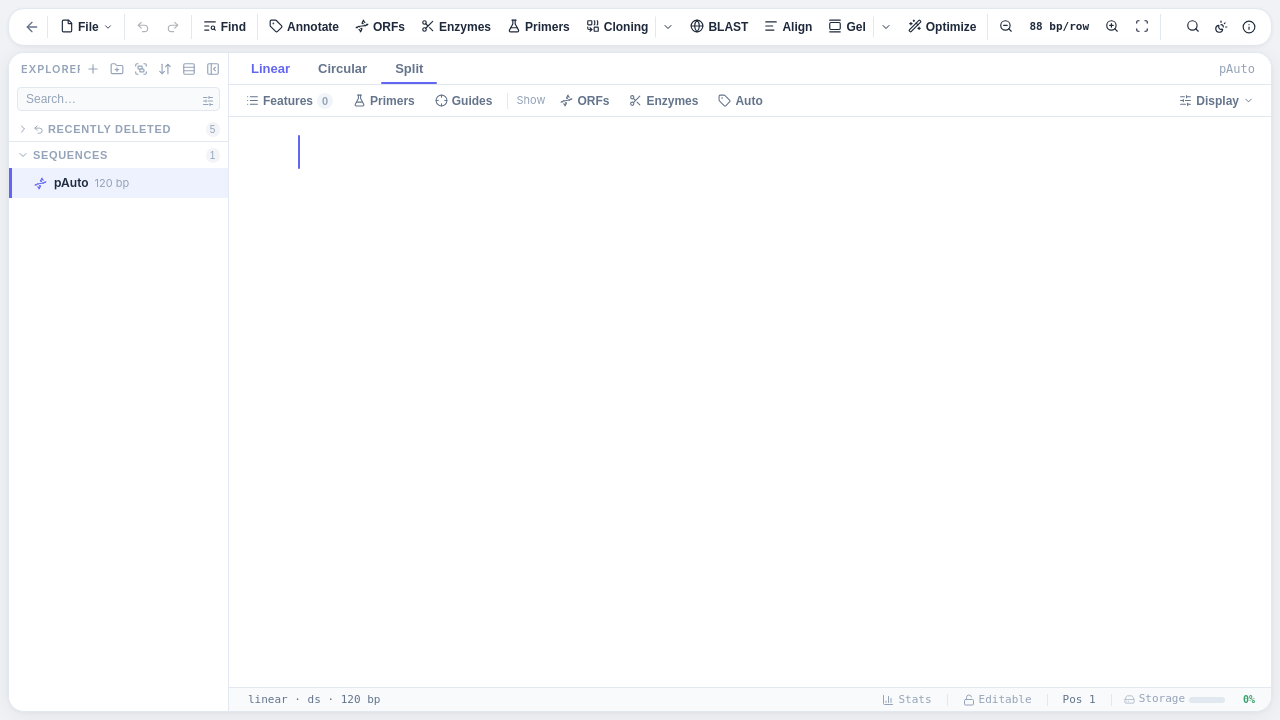
auto-annotation in the panel bar › offers the picked subset once something is picked
What coordinates should you click on to do the following:
click the button "Auto"
I would click on:
 (741, 100)
Its box is top-left (709, 90), bottom-right (772, 112).
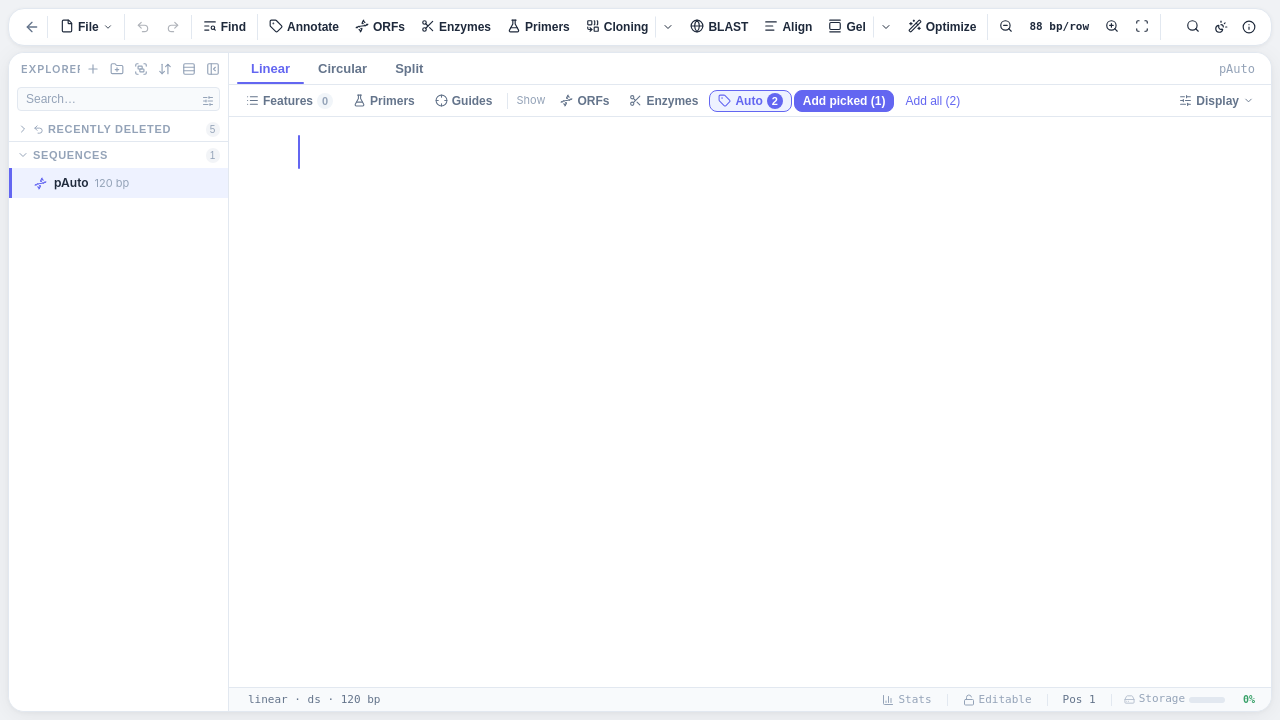
Check: the button "Add picked (1)" is shown, box top-left (794, 90), bottom-right (894, 112)
Check: the button "Add all (2)" is shown, box top-left (896, 90), bottom-right (969, 112)
